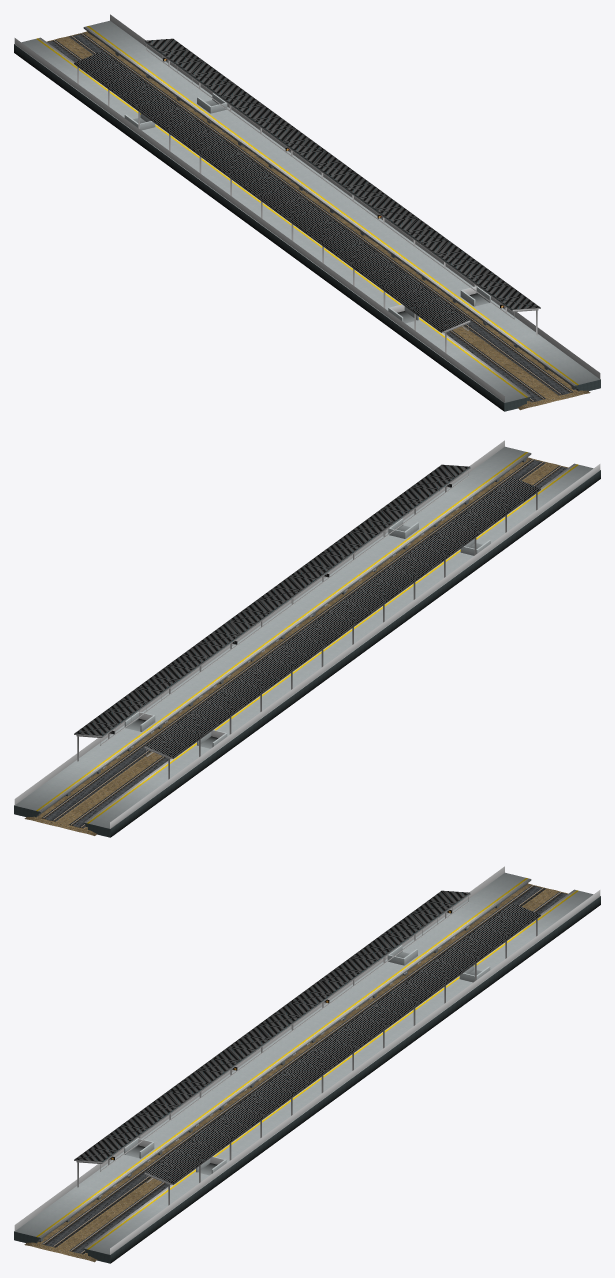
File: HT_TAIMEN_ST.glb
3 views of the same model, one above another, from view 1: azimuth 30°, elevation 25°; view 2: azimuth 150°, elevation 25°; view 3: azimuth 330°, elevation 25° (orthographic).
Parts seen in each view (by area): view 1: home, bone_04-28, bone_24, bone_07; view 2: home, bone_04-28, bone_07, bone_24; view 3: home, bone_04-28, bone_24, bone_07.
Boxes of the visible parts, x1,y1,x2,y2 form: home: (14, 14, 600, 411); bone_04-28: (74, 38, 540, 333); bone_24: (383, 284, 490, 323); bone_07: (124, 78, 227, 130); home: (14, 440, 600, 837); bone_04-28: (74, 464, 540, 759); bone_07: (124, 706, 227, 748); bone_24: (383, 518, 490, 555); home: (14, 866, 600, 1263); bone_04-28: (74, 890, 540, 1185); bone_24: (124, 1136, 231, 1175); bone_07: (387, 930, 490, 982).
Bounding box in the file's own units: 46.81 × 18.1 × 405.
Materials: 82 (81 with a texture image).
